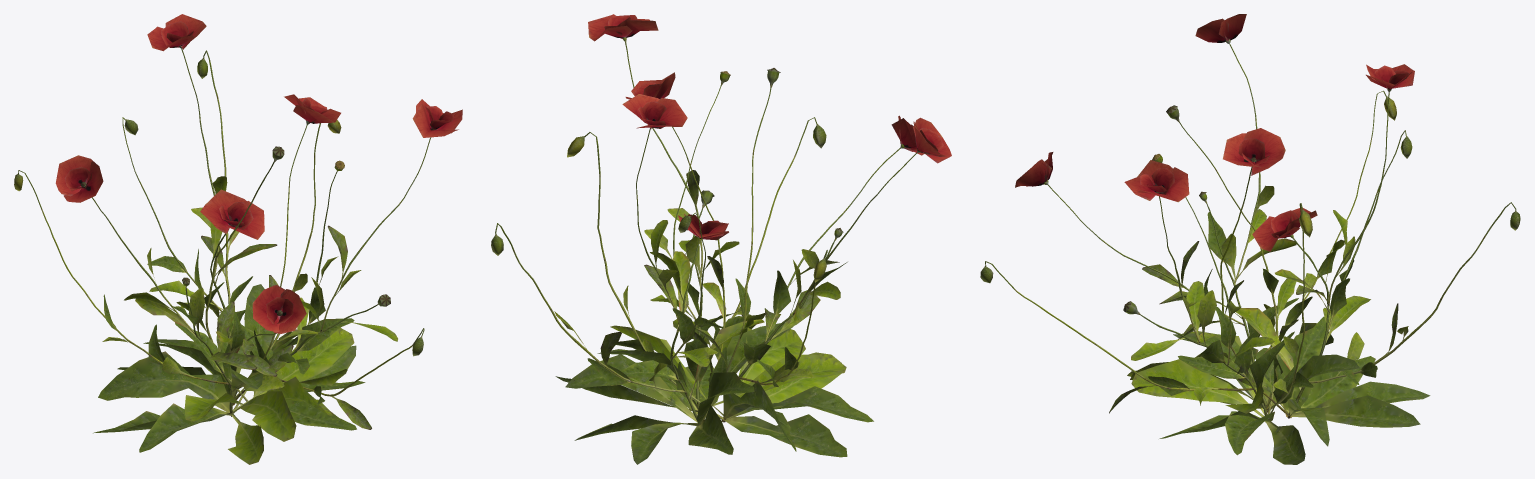
The model's file is Poppy_bush_long_red.glb.
3 views of the same model, side by side, from view 1: azimuth 30°, elevation 25°; view 2: azimuth 150°, elevation 25°; view 3: azimuth 270°, elevation 25° (orthographic). The views are drawn at different scales.
Visible parts, largest first — view 1: large bush; view 2: large bush; view 3: large bush.
Part boxes in pixels (x1,y1,x2,y2): large bush: (14, 14, 462, 464); large bush: (491, 14, 951, 464); large bush: (980, 14, 1520, 464).
Size of the model in its own units: 6 by 5.32 by 7.44.
Materials: 1 (1 with a texture image).
